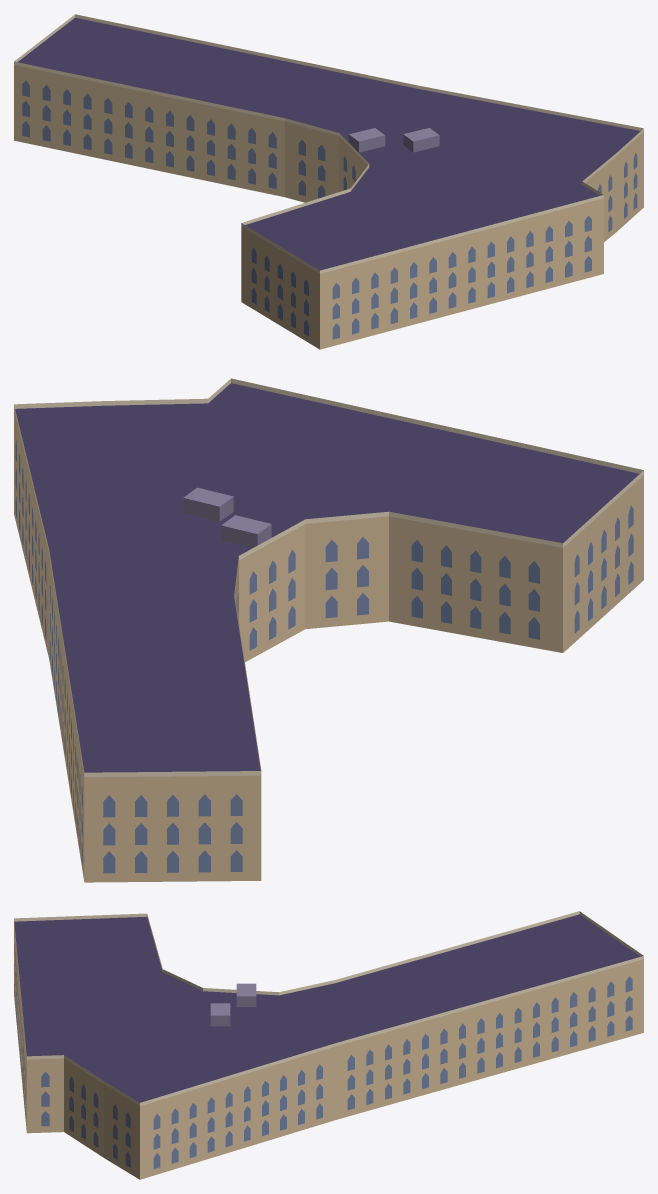
Rendered from b-080-schmeichel-building-day.glb.
3 views of the same model, one above another, from view 1: azimuth 30°, elevation 25°; view 2: azimuth 150°, elevation 25°; view 3: azimuth 270°, elevation 25° (orthographic). The views are drawn at different scales.
Parts seen in each view (by area): view 1: campus/b-080-schmeichel-building-day-0; view 2: campus/b-080-schmeichel-building-day-0; view 3: campus/b-080-schmeichel-building-day-0.
Boxes of the visible parts, x1,y1,x2,y2 form: campus/b-080-schmeichel-building-day-0: [14, 14, 643, 349]; campus/b-080-schmeichel-building-day-0: [14, 378, 643, 882]; campus/b-080-schmeichel-building-day-0: [14, 911, 643, 1179].
Size of the model in its own units: 69.21 by 14.2 by 96.07.
